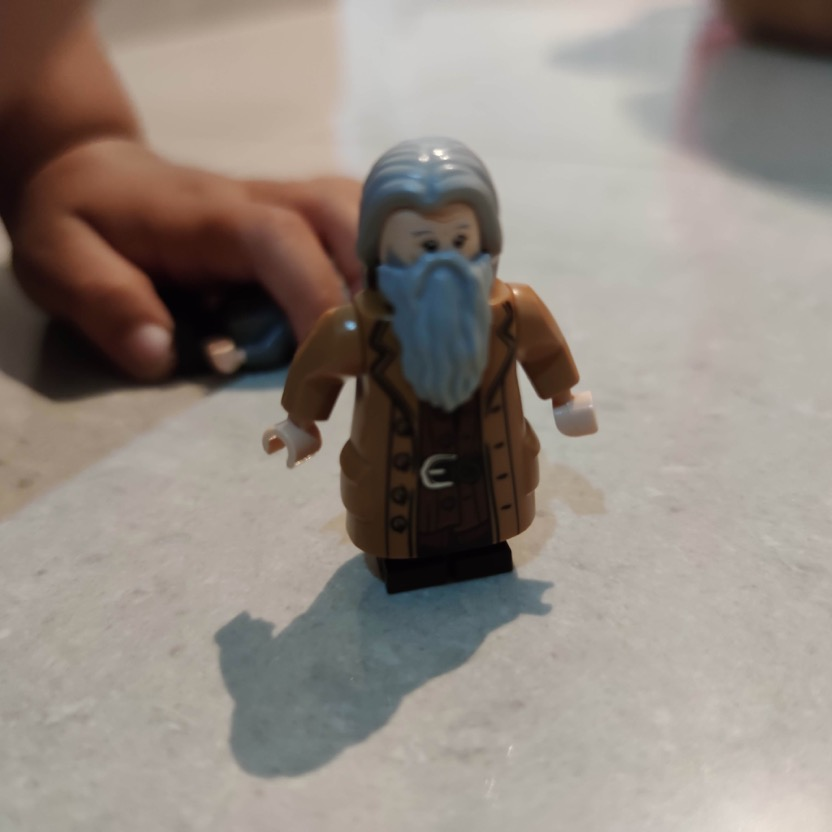lego: (261, 137, 600, 596)
